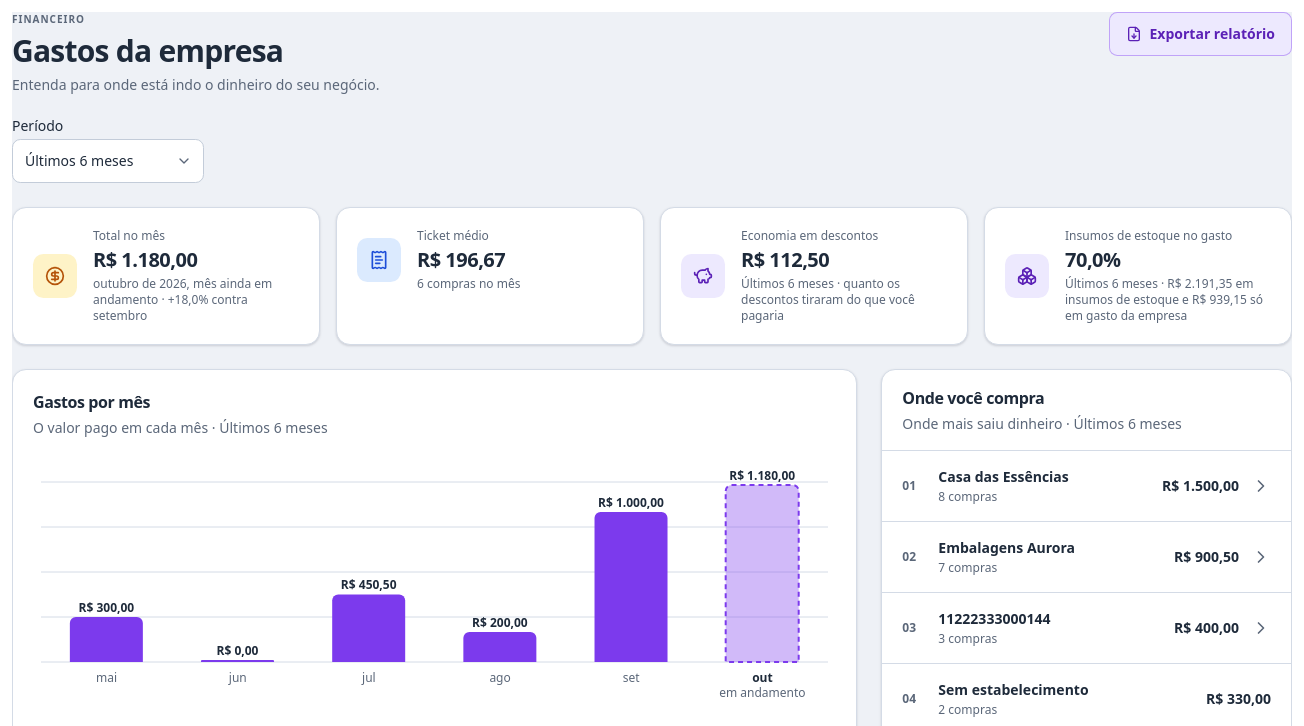
Test: exporting the report › saves a CSV with semicolons and Brazilian amounts, from the dataset on screen
Step 1. Click the button "Exportar relatório" → (1200, 34), box left=1108, top=12, right=1292, bottom=56
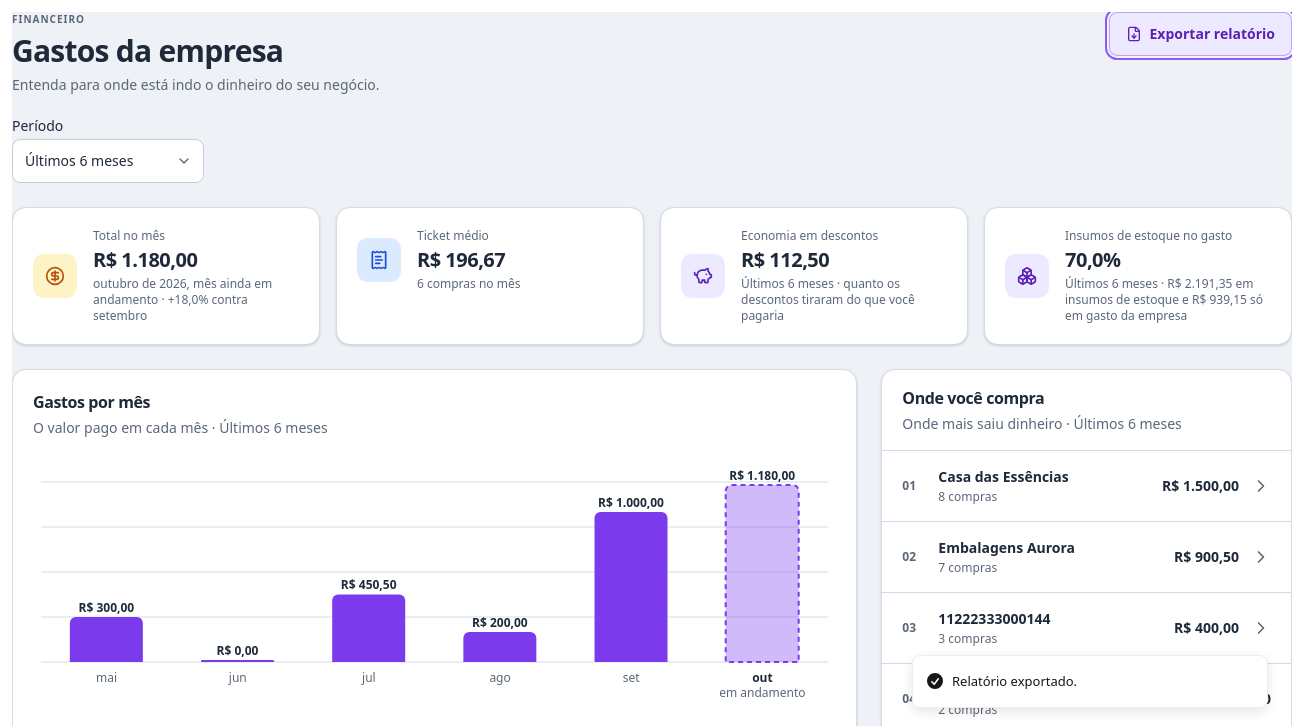
Result: the text "Relatório exportado." is shown at left=952, top=672, right=1077, bottom=691
